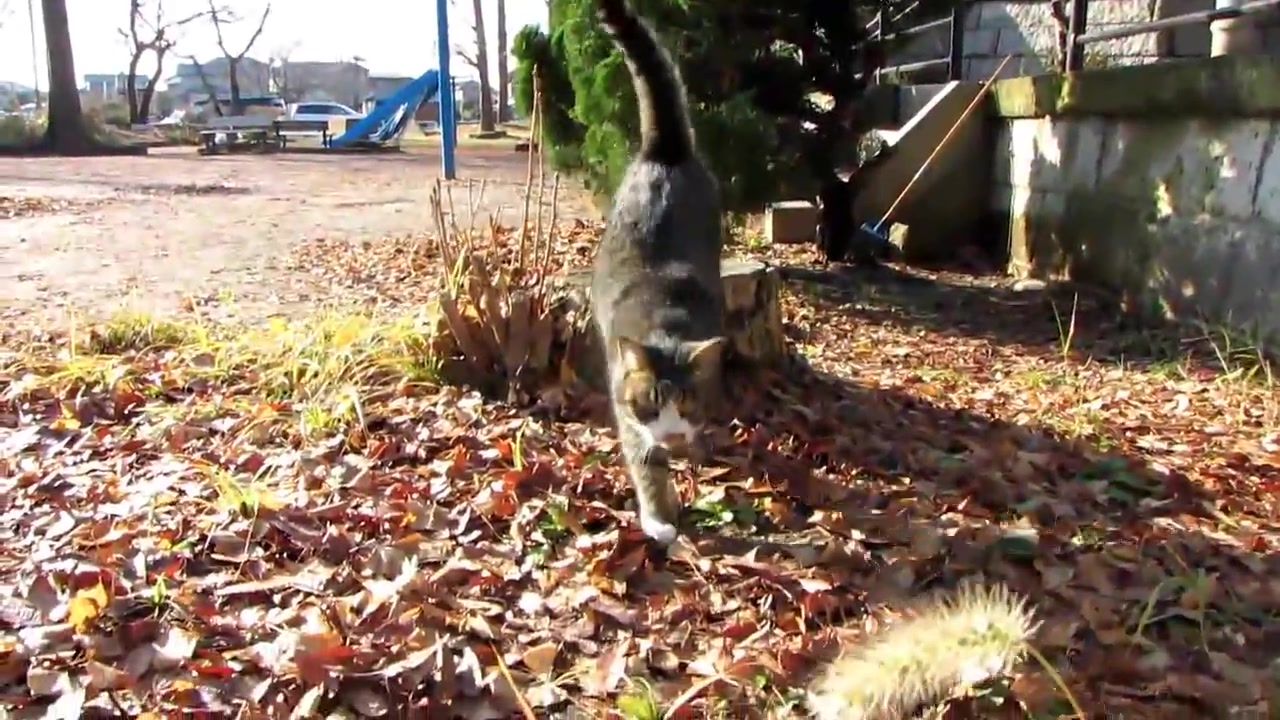cat: (584, 1, 733, 550)
